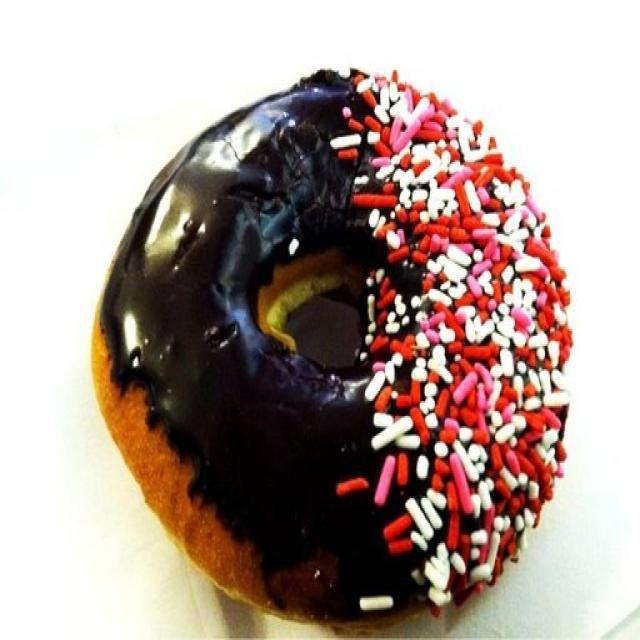Donuts: (85, 55, 623, 607)
